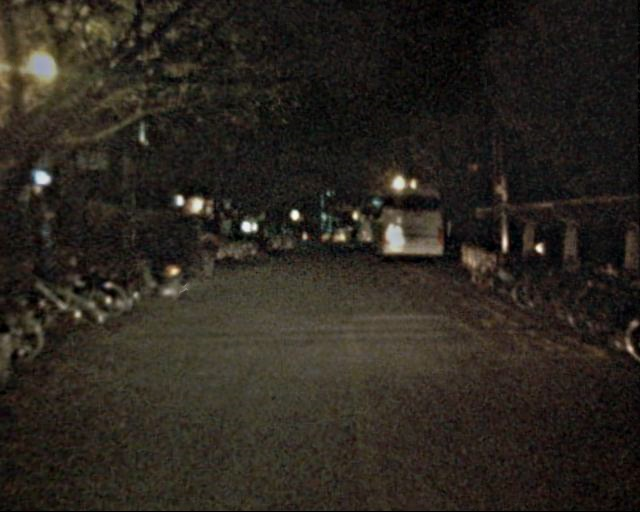person: (151, 226, 176, 286), (196, 218, 219, 274), (252, 220, 266, 255), (340, 225, 359, 249)
